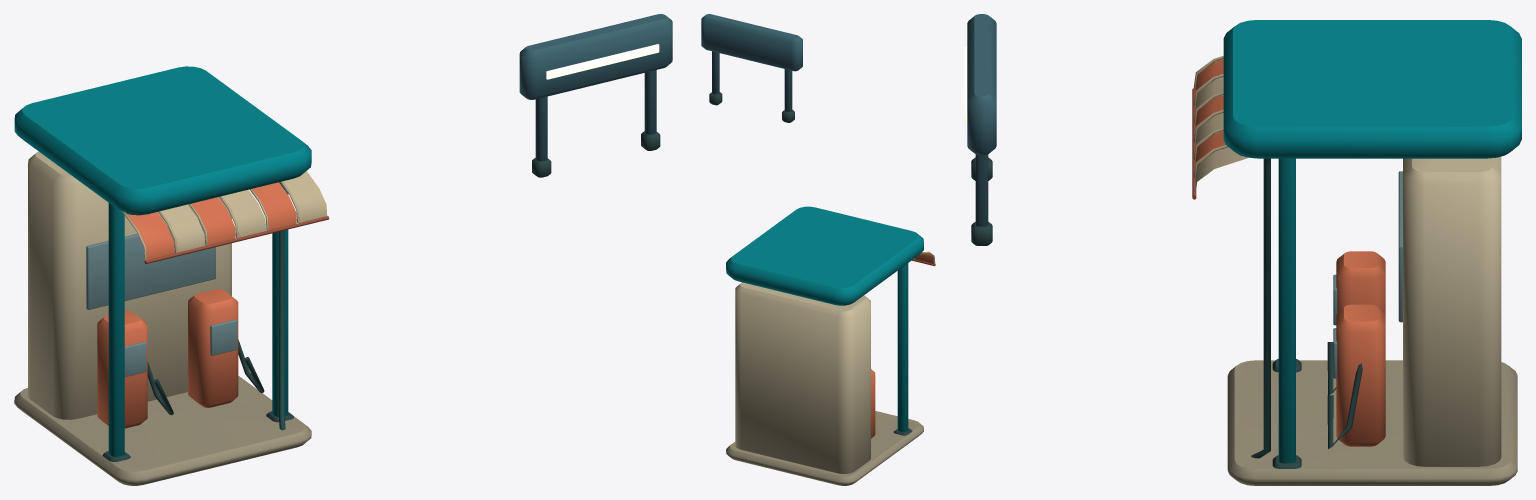
The model's file is ocean_fuel_4.glb.
The picture shows the model from 3 angles, left to right: view 1: azimuth 30°, elevation 25°; view 2: azimuth 150°, elevation 25°; view 3: azimuth 270°, elevation 25°; orthographic projection. The views are drawn at different scales.
Visible parts, largest first — view 1: Fuel4; view 2: Fuel4; view 3: Fuel4.
Boxes of the visible parts, x1,y1,x2,y2 form: Fuel4: (14, 14, 672, 485); Fuel4: (701, 14, 935, 485); Fuel4: (964, 14, 1521, 485).
Bounding box in the file's own units: 5.28 × 5.06 × 4.77.
